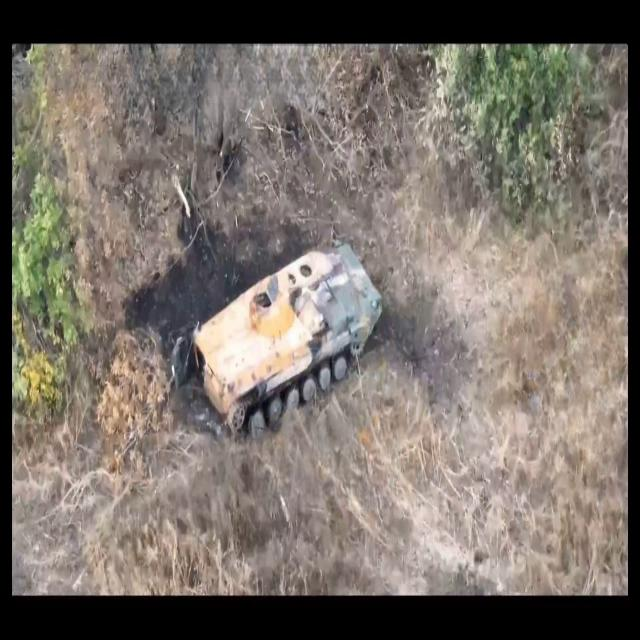AIFV: (196, 242, 386, 445)
